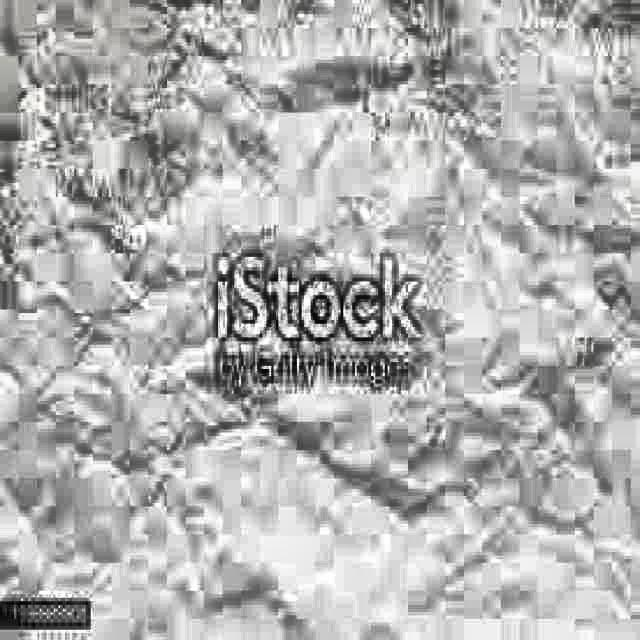Paper: (0, 0, 638, 598)
